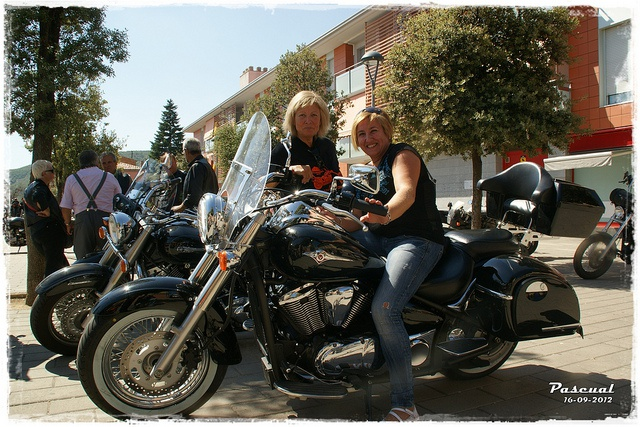non-vehicle: (75, 111, 604, 422), (26, 154, 254, 354), (575, 186, 634, 279)
